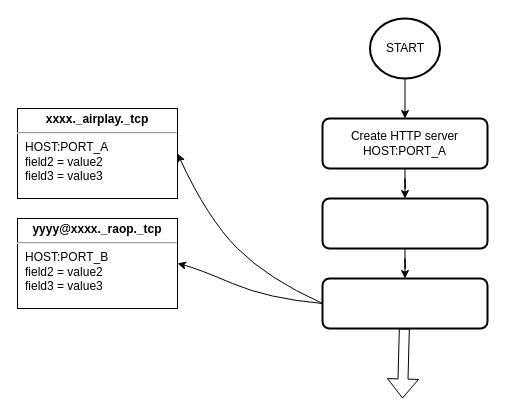
The diagram is 506 pixels wide and 415 high, and some of its shapes have lost their labels. The centre of each missing label's shape, as x and y in pixels:
"Create RTSP server HOST:PORT_B" belongs at pixel 404 223.
"Publish service" belongs at pixel 404 303.
